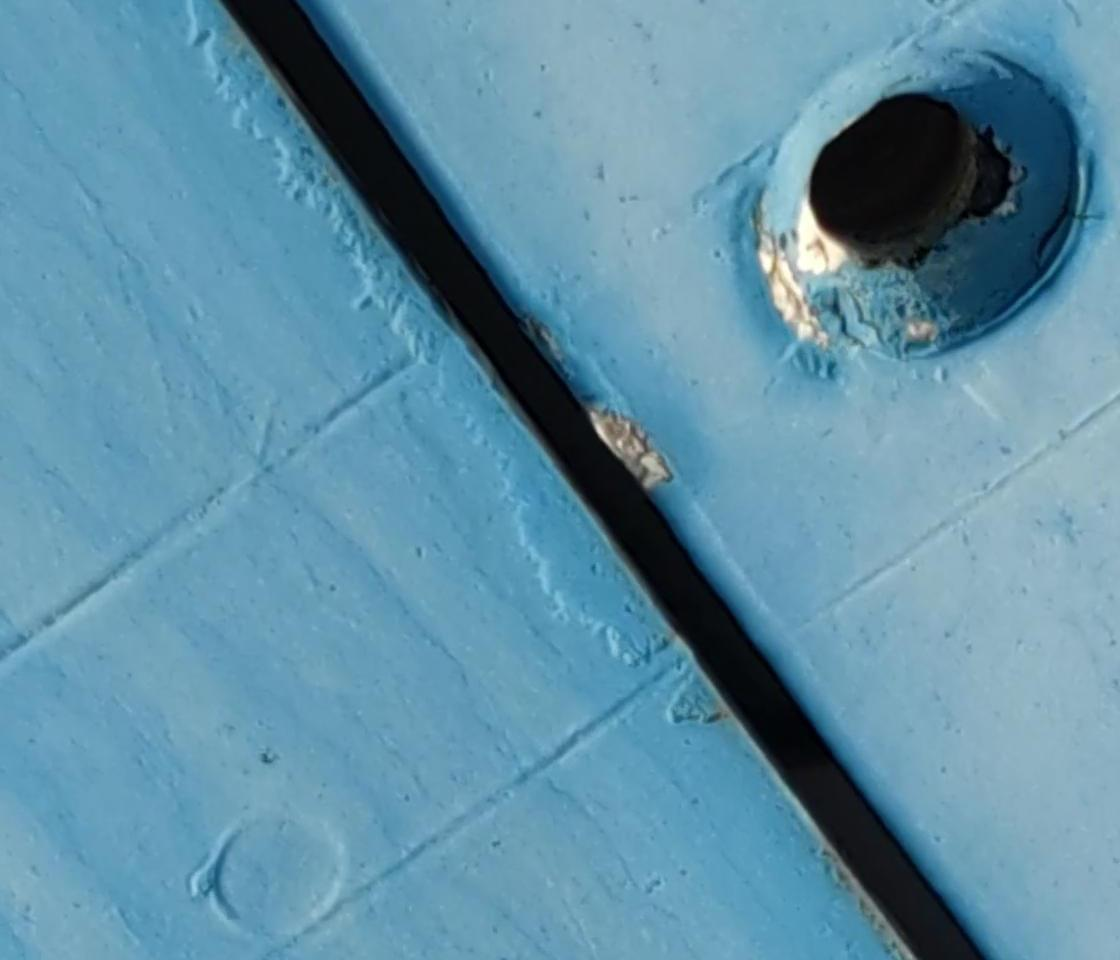paint_peel: (584, 401, 678, 490)
